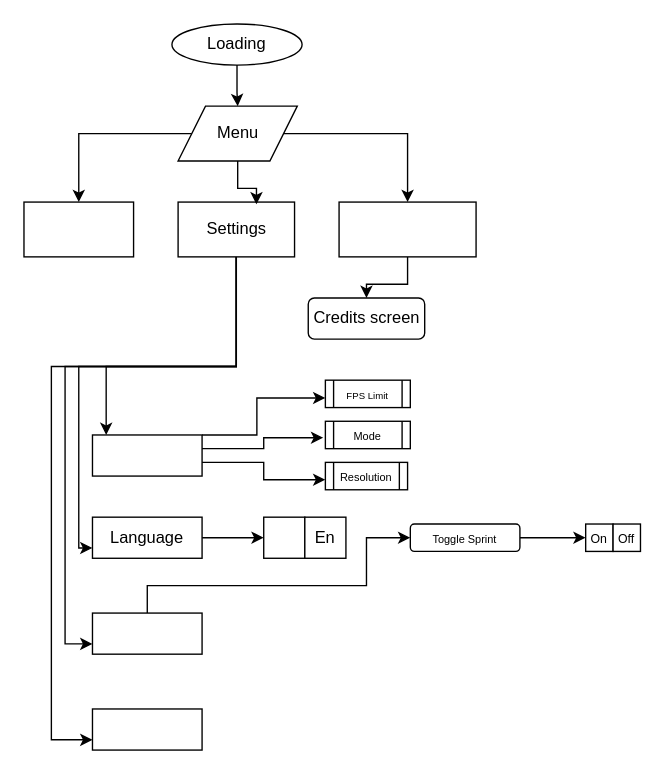
Some shapes in this 664 by 775 pixel diagram are drawn without their labels. The centre of each missing label's shape, as x and y in pixels:
"Audio" goes at (146,729).
"Control" goes at (146,633).
"Credits" goes at (407,229).
"Cz" goes at (283,537).
"Graphics" goes at (146,455).
"Play" goes at (78,229).
